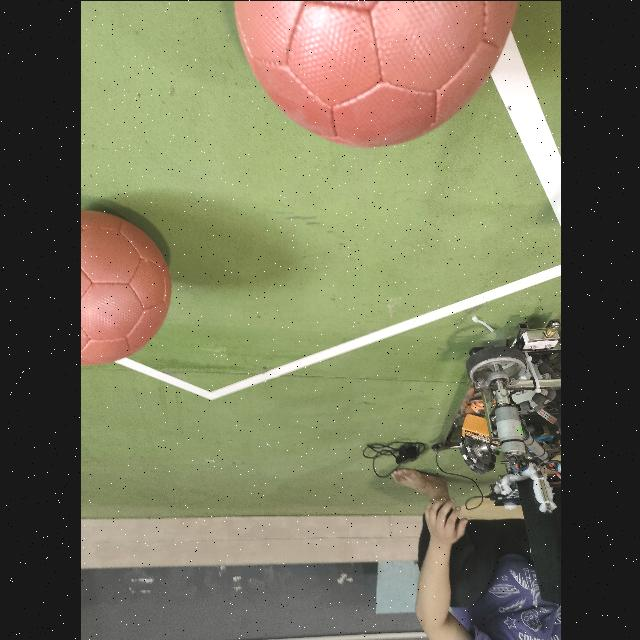R: (233, 0, 519, 146), (80, 208, 170, 364)
